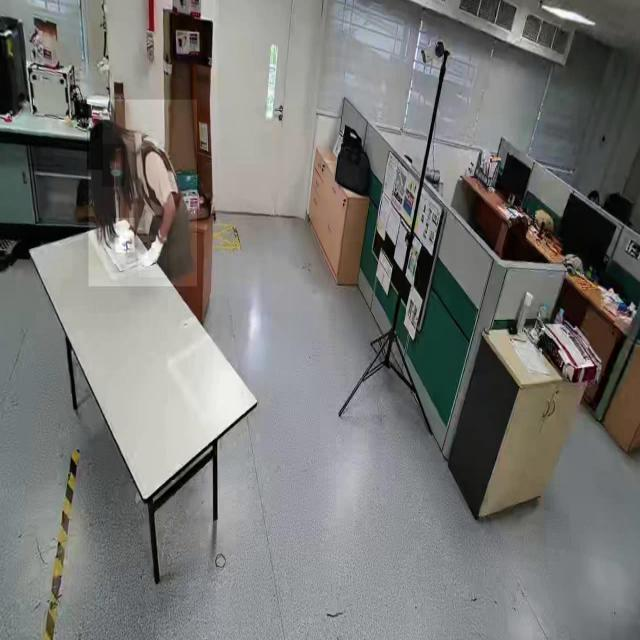gloves: (138, 236, 168, 278), (115, 218, 135, 253)
